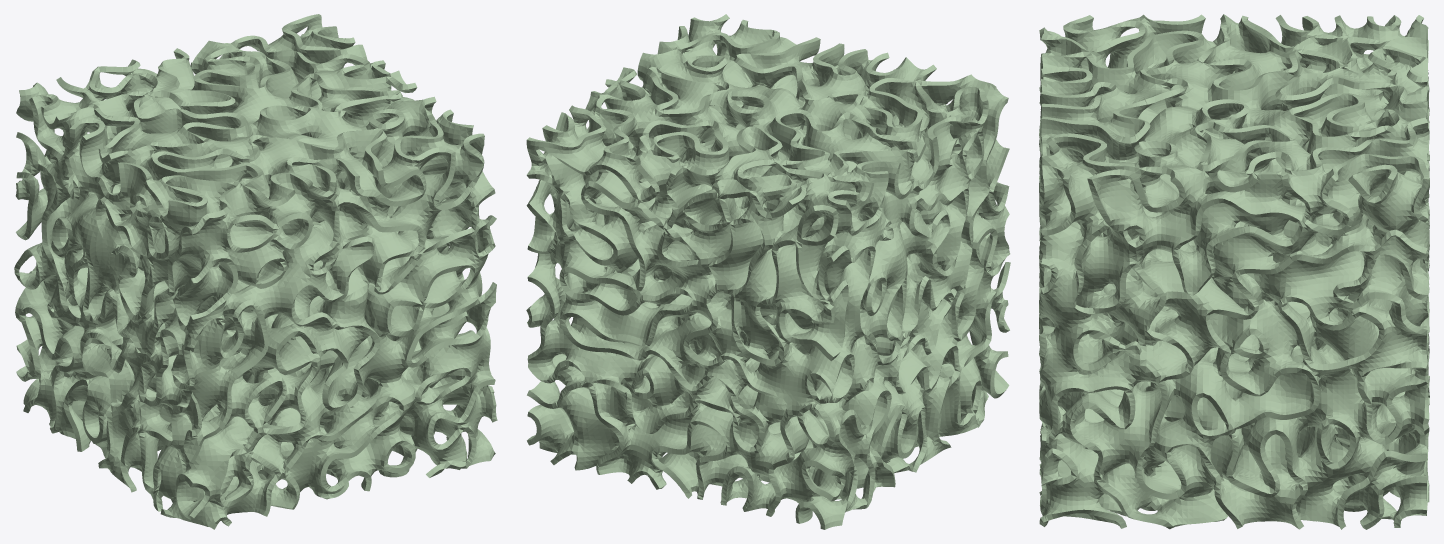
File: spinodoid.glb
The picture shows the model from 3 angles, left to right: view 1: azimuth 30°, elevation 25°; view 2: azimuth 150°, elevation 25°; view 3: azimuth 270°, elevation 25°; orthographic projection. The views are drawn at different scales.
Visible parts, largest first — view 1: geometry_0; view 2: geometry_0; view 3: geometry_0.
Boxes of the visible parts, x1,y1,x2,y2 form: geometry_0: (14, 14, 497, 529); geometry_0: (526, 14, 1010, 529); geometry_0: (1039, 14, 1429, 529).
Size of the model in its own units: 0.0305 by 0.0305 by 0.0305.
